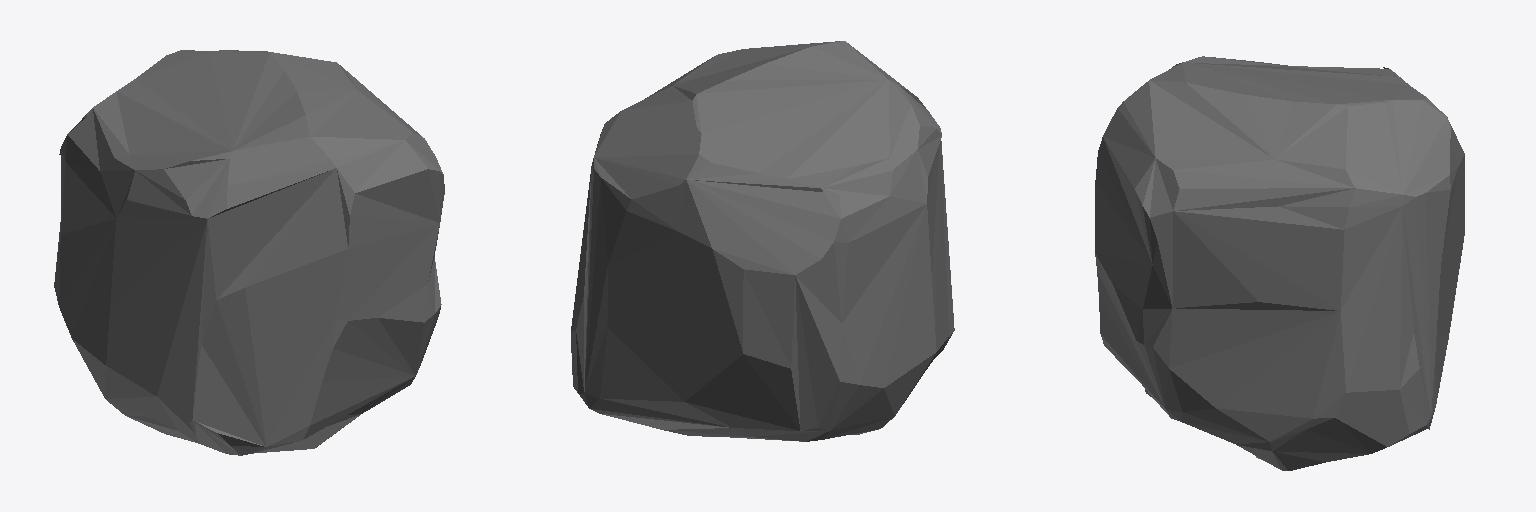
3 renders of one model, left to right at view 1: azimuth 30°, elevation 25°; view 2: azimuth 150°, elevation 25°; view 3: azimuth 270°, elevation 25°, orthographic.
Visible parts, largest first — view 1: Cube; view 2: Cube; view 3: Cube.
Part boxes in pixels (x1,y1,x2,y2): Cube: (54, 50, 444, 455); Cube: (571, 41, 954, 441); Cube: (1095, 56, 1464, 470).
Bounding box in the file's own units: 1.87 × 1.96 × 1.88.
1 materials, 1 textured.